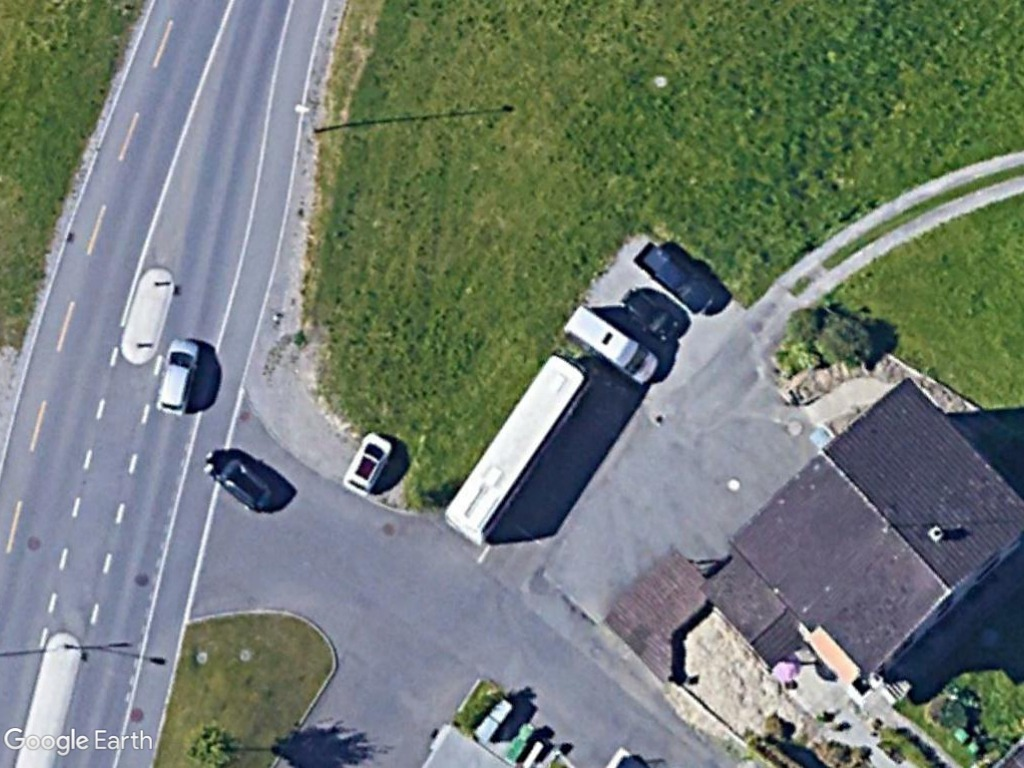bus: (445, 347, 592, 544)
car: (154, 334, 200, 418), (342, 429, 394, 499)
van: (564, 299, 661, 387)
